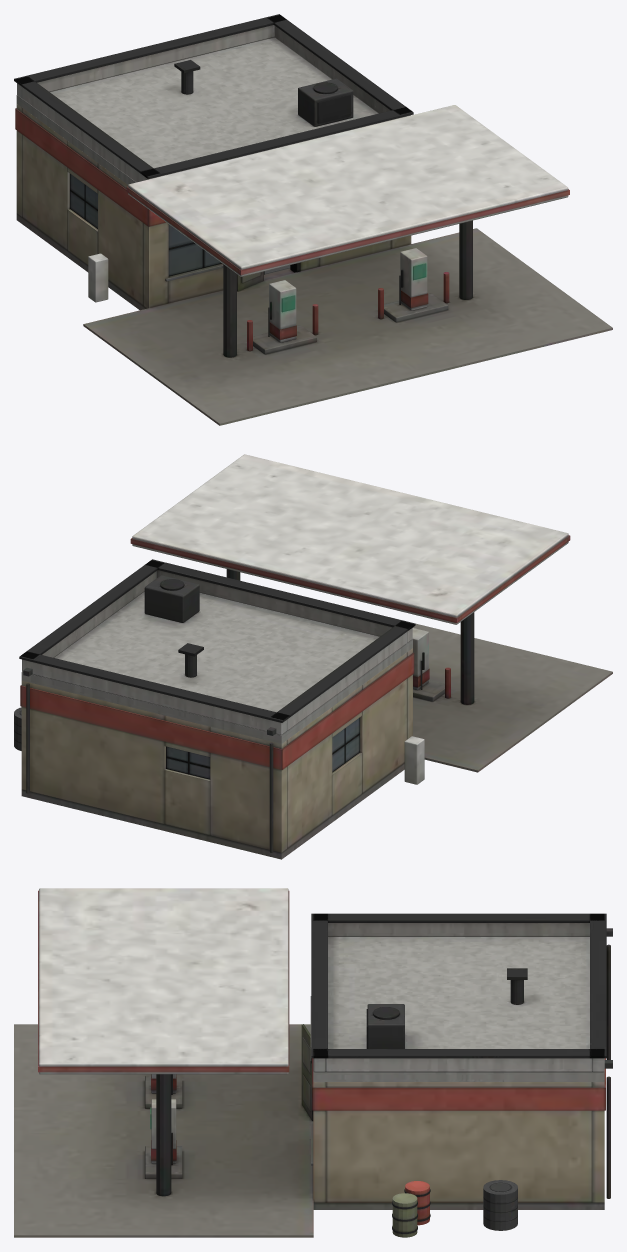
File: gasstation.glb
3 renders of one model, top to bottom at view 1: azimuth 30°, elevation 25°; view 2: azimuth 150°, elevation 25°; view 3: azimuth 270°, elevation 25°, orthographic. The views are drawn at different scales.
Parts seen in each view (by area): view 1: BldS_Shell, BldS_Roof; view 2: BldS_Shell, BldS_Roof; view 3: BldS_Shell, BldS_Roof, BldS_Interior.
Boxes of the visible parts, x1,y1,x2,y2 form: BldS_Shell: (15,104,612,425); BldS_Roof: (14,14,413,184); BldS_Shell: (20,454,612,859); BldS_Roof: (19,559,415,743); BldS_Shell: (14,888,612,1237); BldS_Roof: (311,913,606,1081); BldS_Interior: (392,1180,517,1237).
Size of the model in its own units: 12.01 by 4.49 by 14.4.
3 materials, 3 textured.
